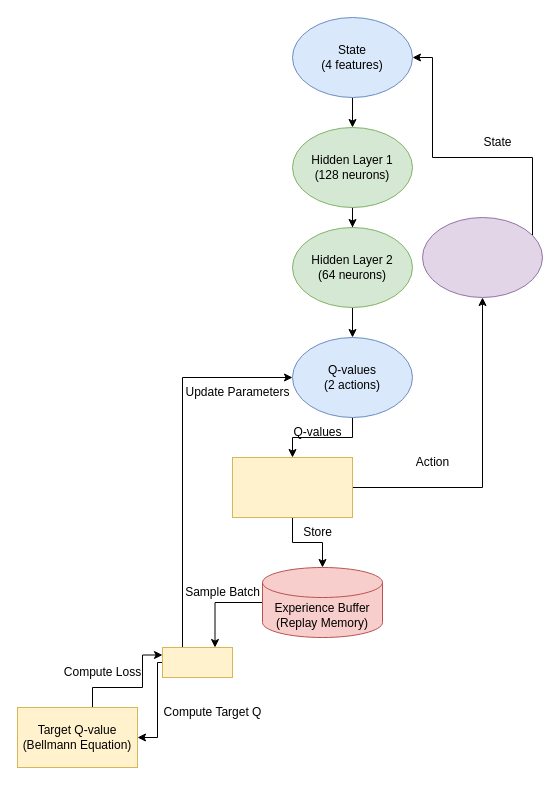
Some shapes in this 560 by 785 pixel diagram are drawn without their labels. The shapes that lost their labels are listed below. From the top down, each one's centre as x and y in pixels, then its label:
At [482,257]: "Environment".
At [292,487]: "Epsilon-Greedy Policy".
At [197,662]: "Trainer".
